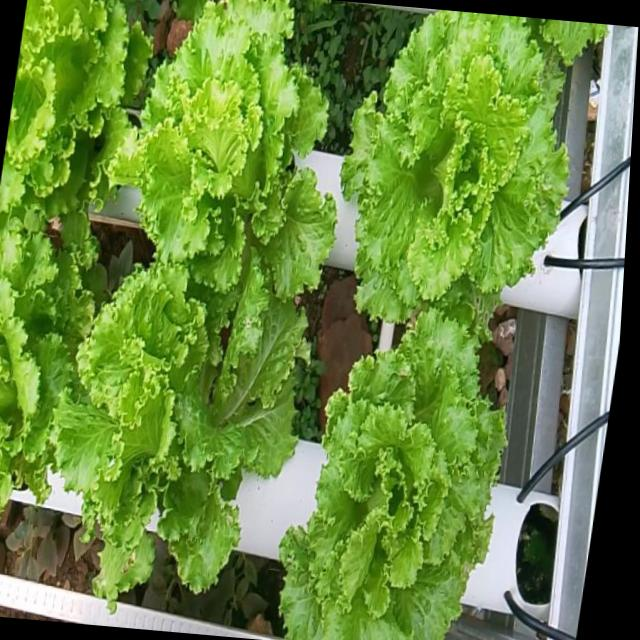Mature: (35, 269, 311, 625), (281, 292, 518, 640), (342, 18, 592, 335), (88, 0, 337, 312)
